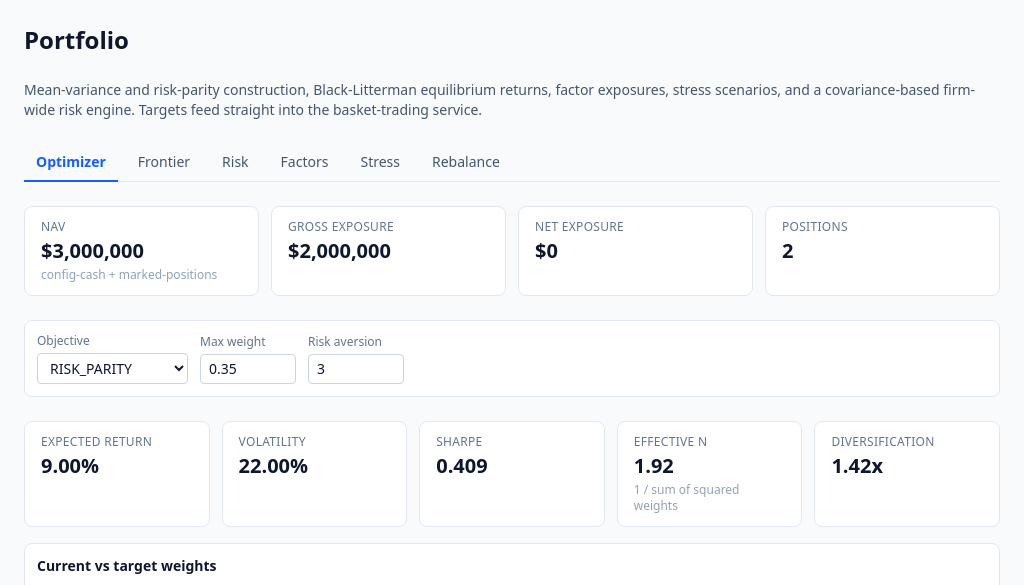
it: Portfolio page › disables the basket button when submission is off
This screenshot has width=1024, height=585.
Step 1. Click the button with test id "tab-rebalance" → click(466, 163), box [420,144,512,182]
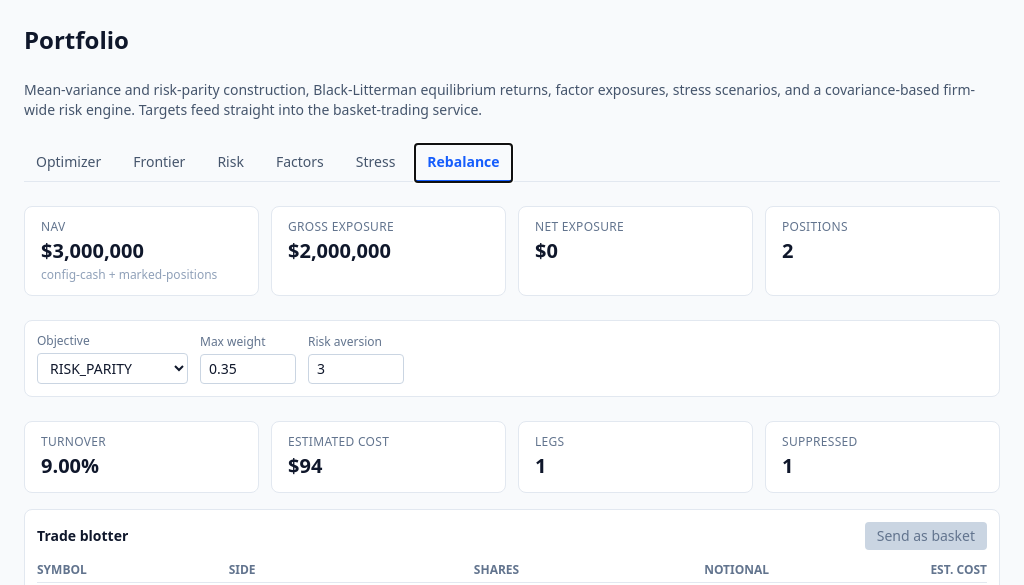
Result: the button with test id "send-basket" is disabled at [865,522,987,550]
